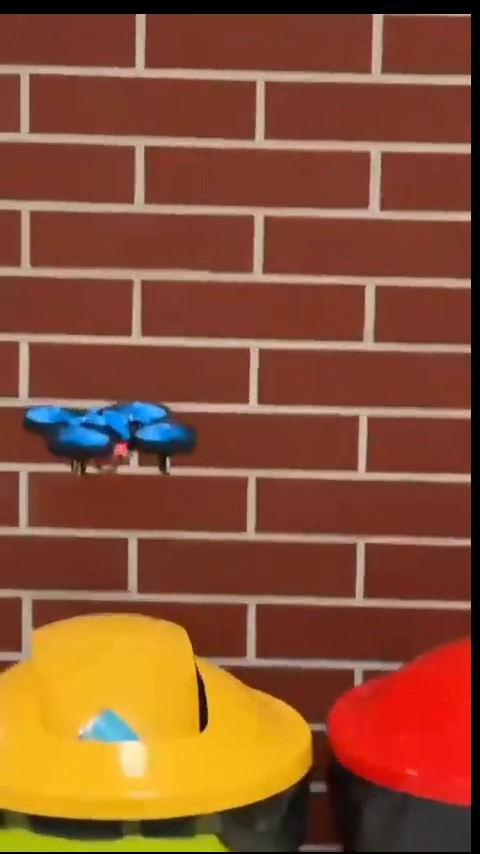drone: (24, 398, 199, 476)
